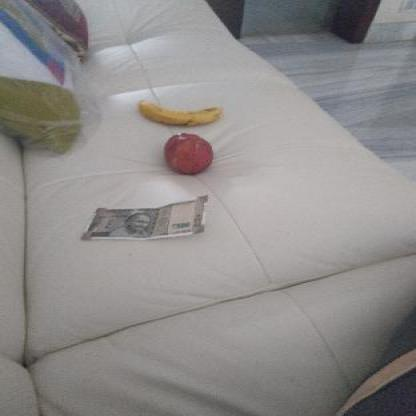New500Front: (79, 194, 213, 241)
